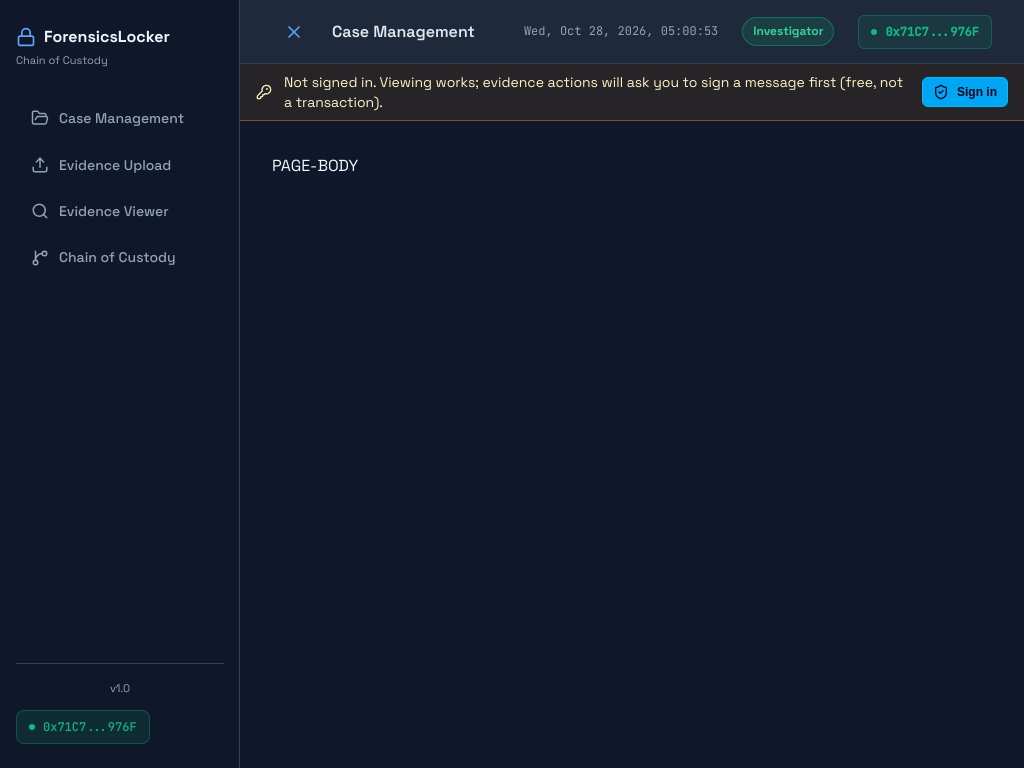
Scenario: Layout on desktop (>= 768px) › collapses and re-opens the sidebar with the toggle, making it inert while collapsed
The image size is (1024, 768).
Click the button named "Navigation menu" at (294, 32), box top-left (272, 10), bottom-right (316, 54)
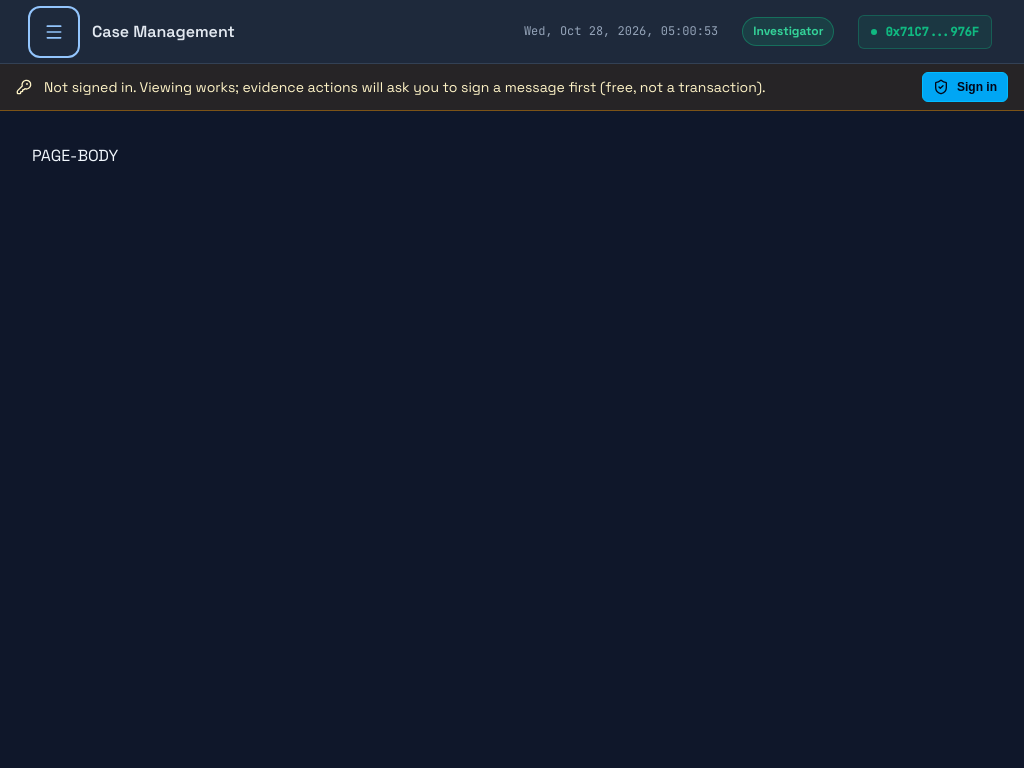
Check: the button named "Navigation menu" is collapsed
Click the button named "Navigation menu" at (54, 32), box top-left (32, 10), bottom-right (76, 54)
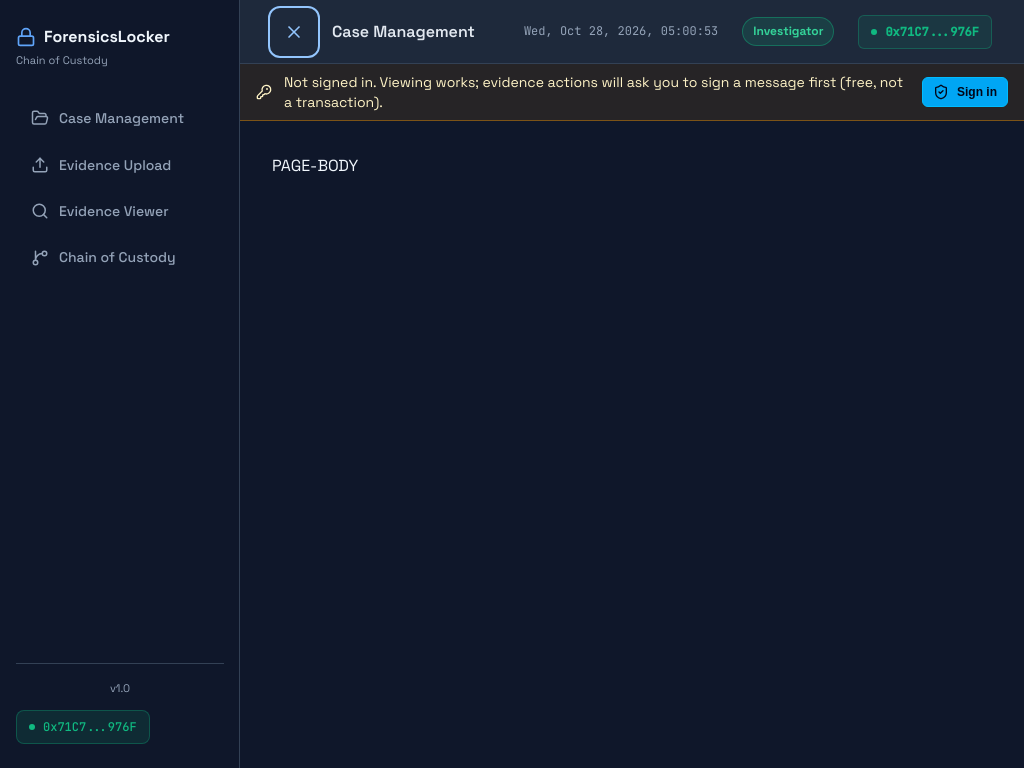
Check: the button named "Navigation menu" is expanded, box top-left (272, 10), bottom-right (316, 54)
